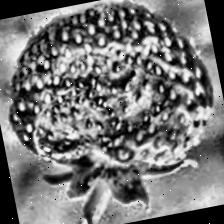Anthracnose Fruit Rot: (15, 32, 193, 178)
